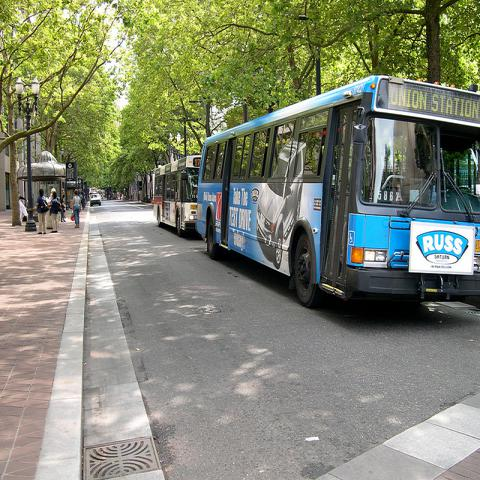bus: (194, 73, 480, 307), (154, 156, 202, 236)
car: (89, 193, 102, 206)
